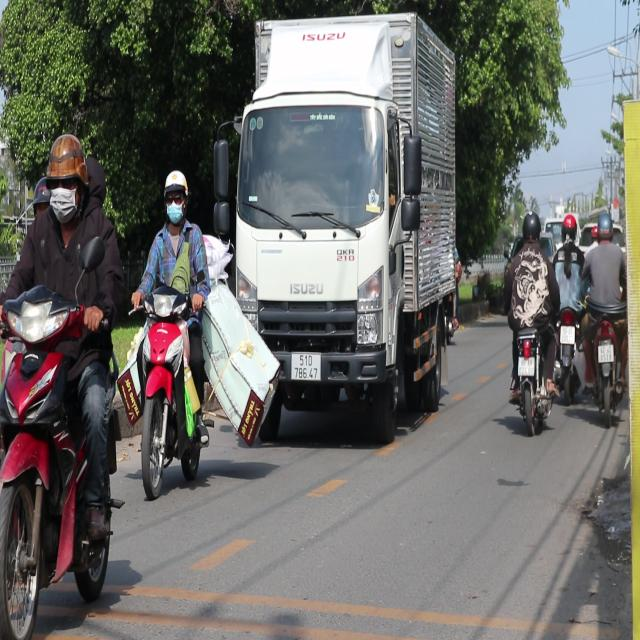helmet: (44, 132, 87, 228), (162, 168, 188, 228), (520, 210, 542, 245), (560, 212, 578, 242), (596, 210, 613, 240)
licenseplate: (1, 123, 133, 638), (122, 167, 224, 494), (502, 206, 558, 433), (578, 208, 627, 422)
nohelmet: (518, 357, 535, 376), (598, 344, 614, 363)
